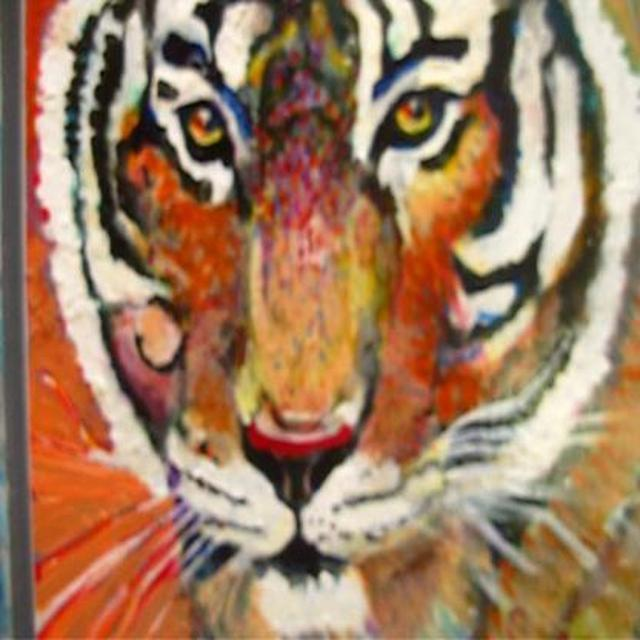tiger: (31, 0, 638, 639), (61, 0, 299, 639), (344, 0, 606, 475), (233, 0, 401, 585)
